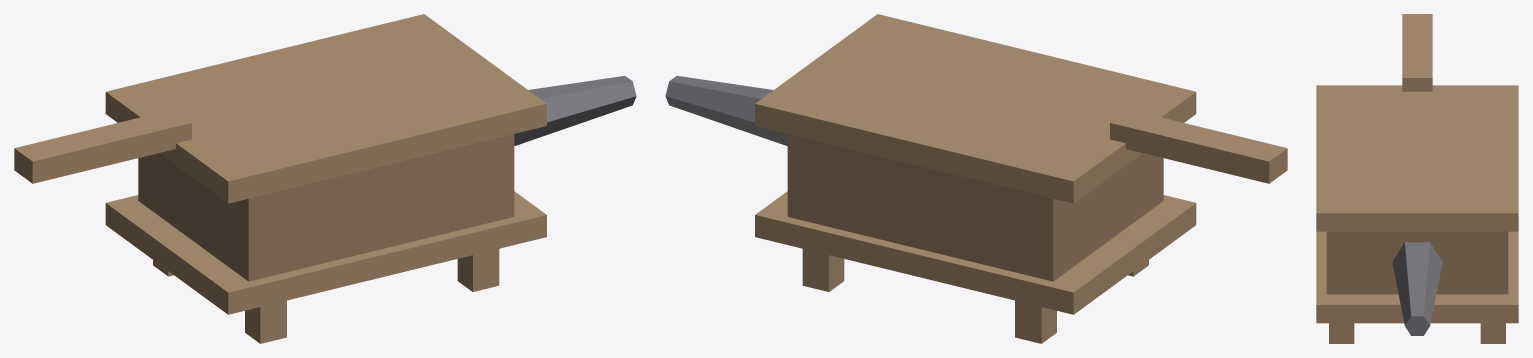
Rendered from prop-bellows.fbx.
3 renders of one model, left to right at view 1: azimuth 30°, elevation 25°; view 2: azimuth 150°, elevation 25°; view 3: azimuth 270°, elevation 25°, orthographic. The views are drawn at different scales.
Parts seen in each view (by area): view 1: prop-bellows; view 2: prop-bellows; view 3: prop-bellows.
Part boxes in pixels (x1=…): prop-bellows: x1=14, y1=14, x2=636, y2=343; prop-bellows: x1=665, y1=14, x2=1287, y2=343; prop-bellows: x1=1316, y1=14, x2=1518, y2=343.
Size of the model in its own units: 1.14 by 0.35 by 0.4.
